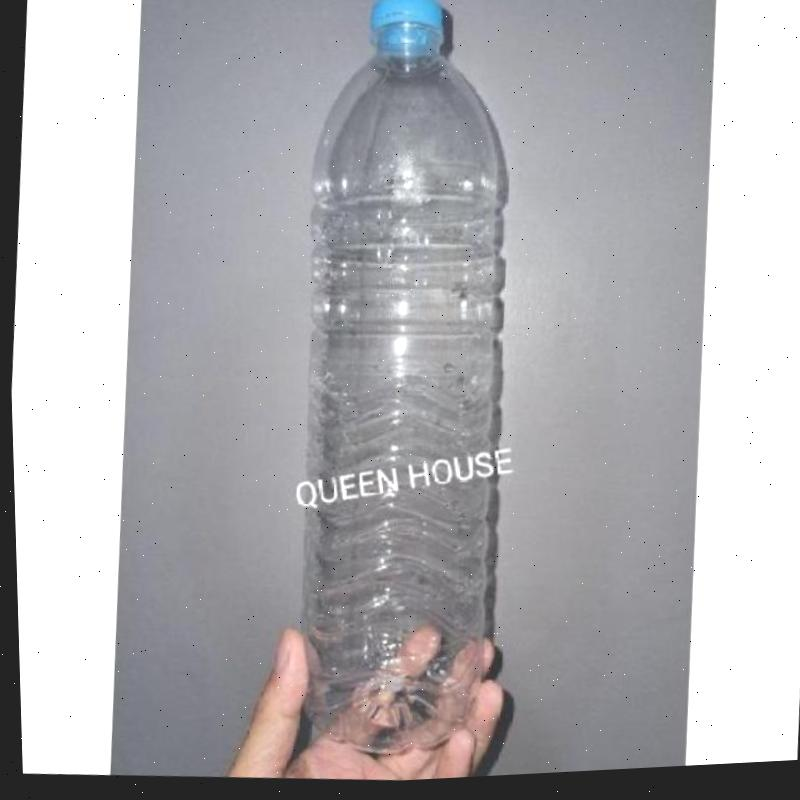botella: (263, 0, 532, 771)
